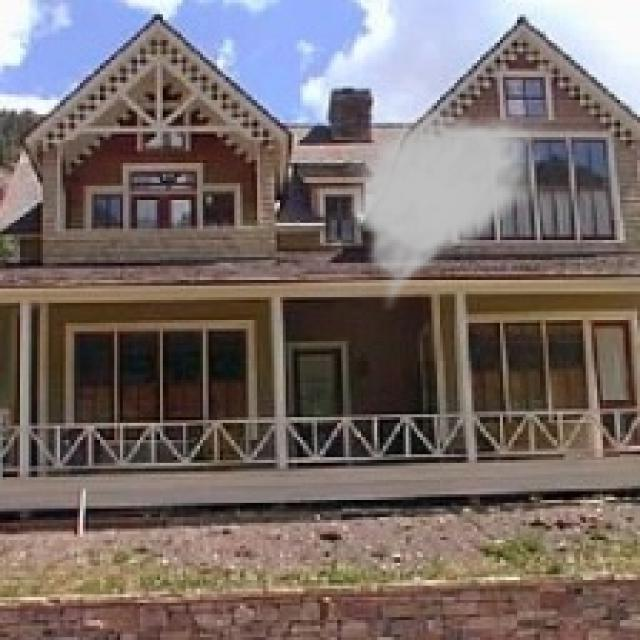smoke: (343, 106, 546, 314)
